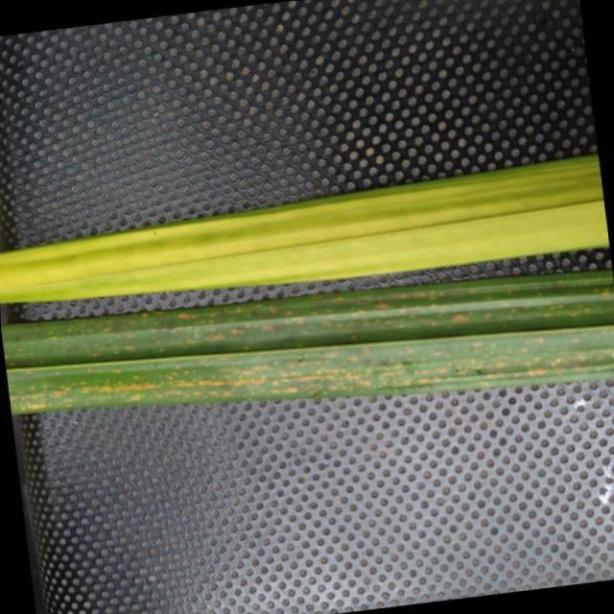nitrogen: (0, 149, 614, 307), (5, 278, 614, 414)
